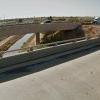Bridge: (7, 11, 84, 39)
